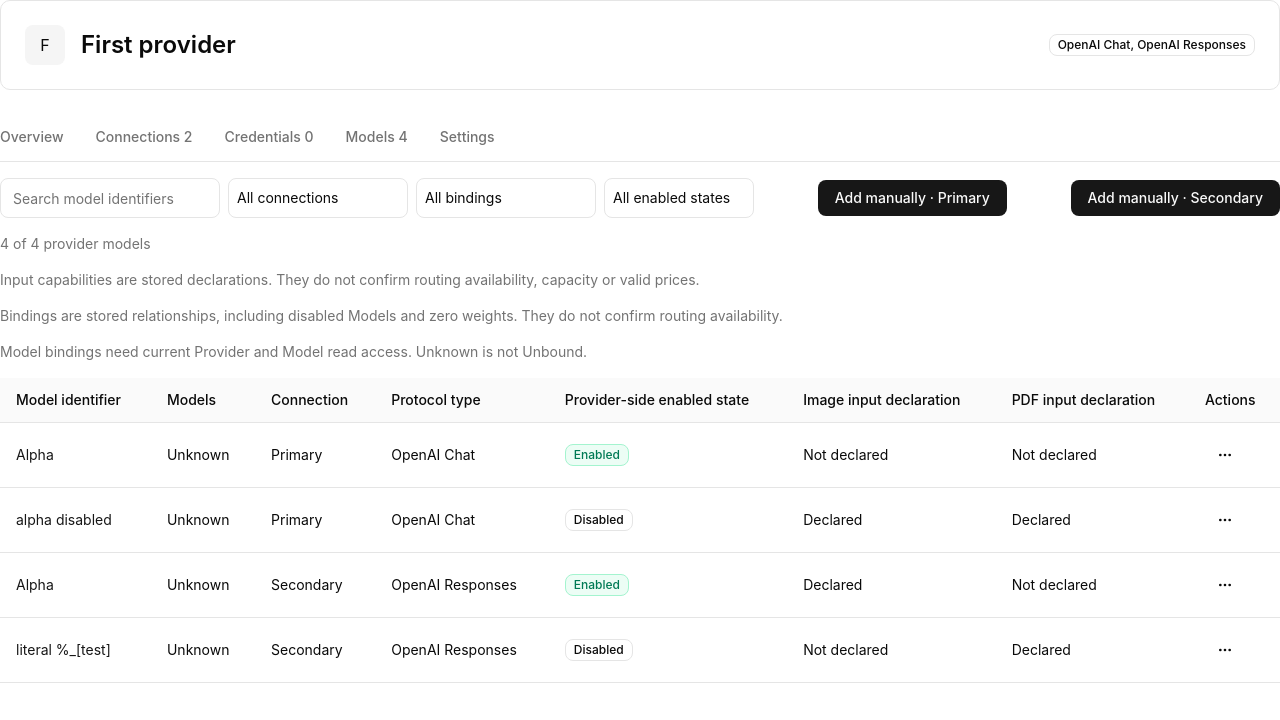
Test: uses the actual Provider Models tab with the existing Add and detail hierarchy
This screenshot has width=1280, height=720.
Expected: the link to "/admin/providers/prv_first/models/pmd_alpha" is shown, [16,446,54,463]
Click the button "Add manually · Primary" at (912, 198), box [818,180,1007,216]
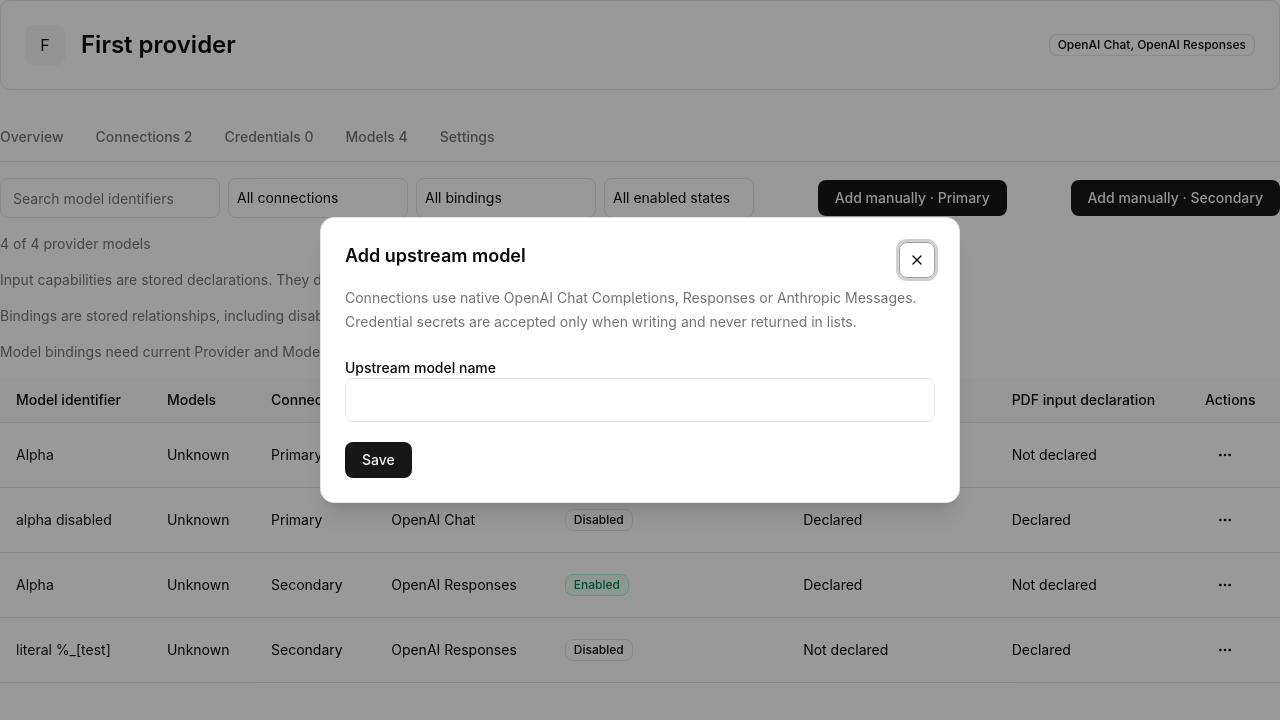
Now the dialog is shown, box [320,217,960,503]
Now the text "Add upstream model" is shown, box [345,242,526,270]
